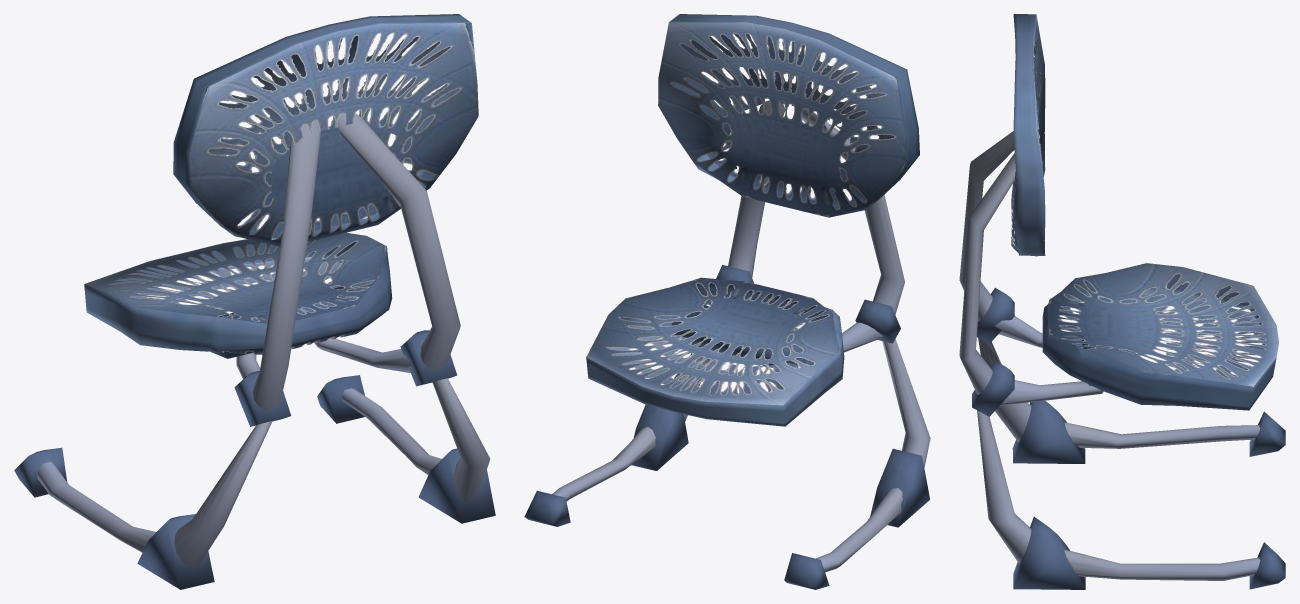
File: PrimaryChair1 1.fbx
3 views of the same model, side by side, from view 1: azimuth 30°, elevation 25°; view 2: azimuth 150°, elevation 25°; view 3: azimuth 270°, elevation 25° (orthographic). The views are drawn at different scales.
Parts seen in each view (by area): view 1: Cube.019; view 2: Cube.019; view 3: Cube.019.
Part boxes in pixels (box(x1,y1,x2,y2)): Cube.019: box(14, 14, 495, 589); Cube.019: box(524, 14, 930, 589); Cube.019: box(959, 14, 1285, 589).
Bounding box in the file's own units: 64.18 × 95.36 × 59.81.
